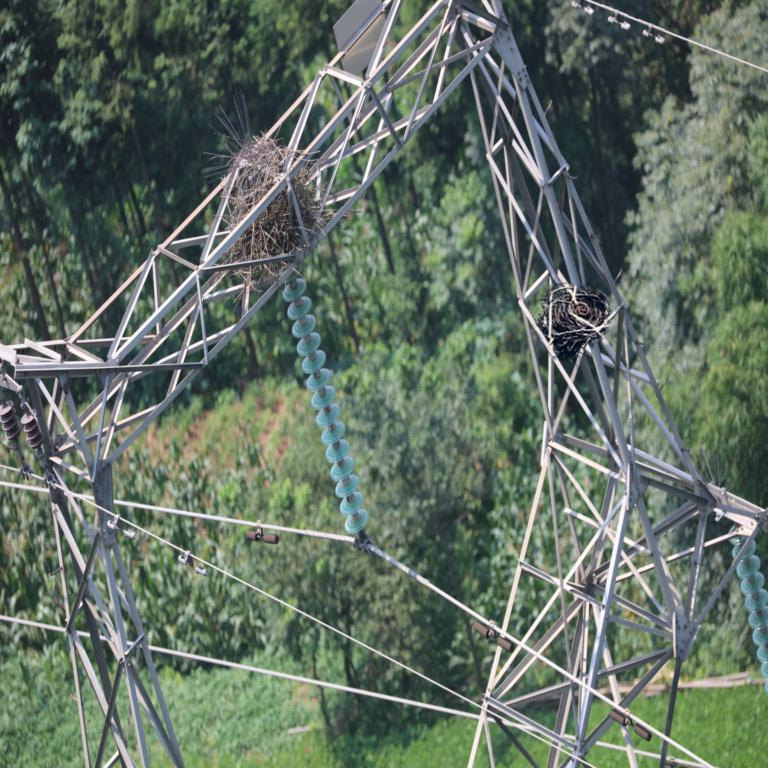nest: (221, 138, 320, 282), (541, 286, 610, 350)
